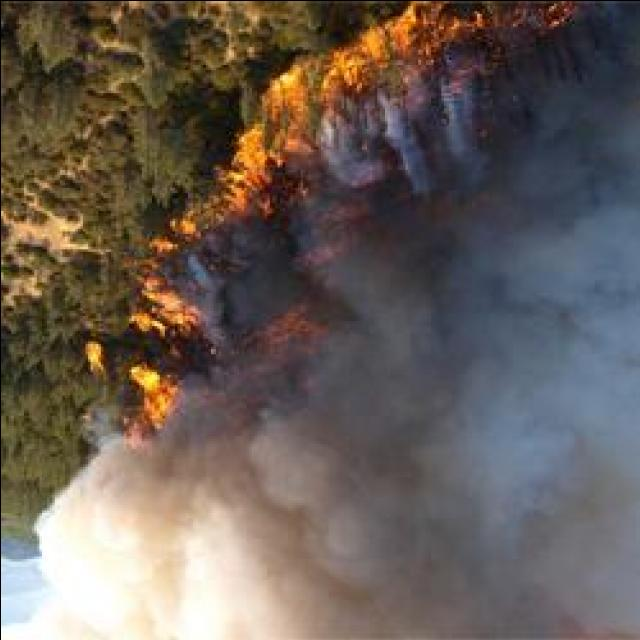fire: (219, 132, 268, 208), (134, 290, 198, 336), (363, 18, 415, 68), (142, 380, 180, 425), (324, 49, 370, 85), (266, 66, 306, 102), (129, 362, 161, 392)
smoke: (338, 284, 520, 590), (33, 474, 356, 634), (473, 340, 640, 635), (505, 84, 640, 359), (248, 396, 360, 528), (179, 398, 244, 514), (79, 437, 129, 517), (338, 247, 388, 315), (440, 77, 470, 159), (329, 127, 360, 183)
